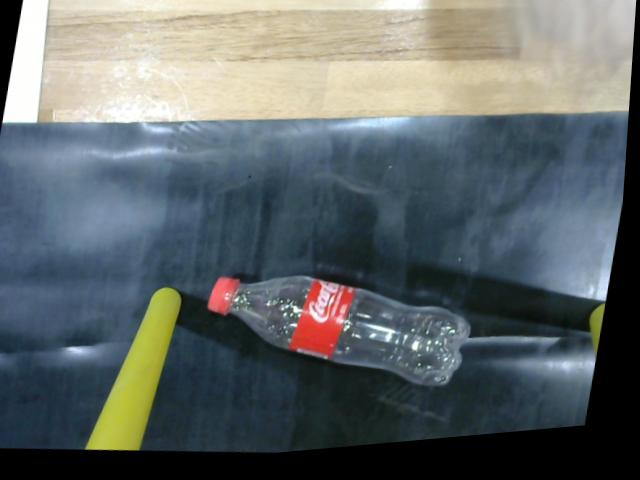bottle: (206, 276, 472, 397)
